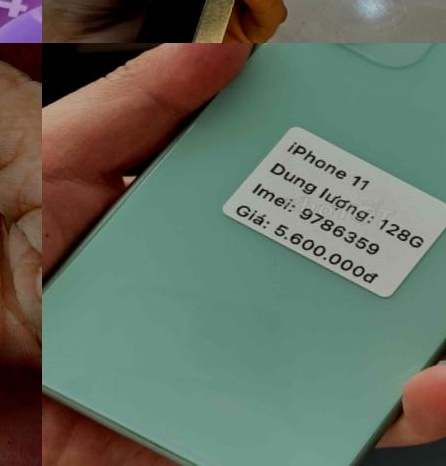scratch: (180, 0, 283, 43)
